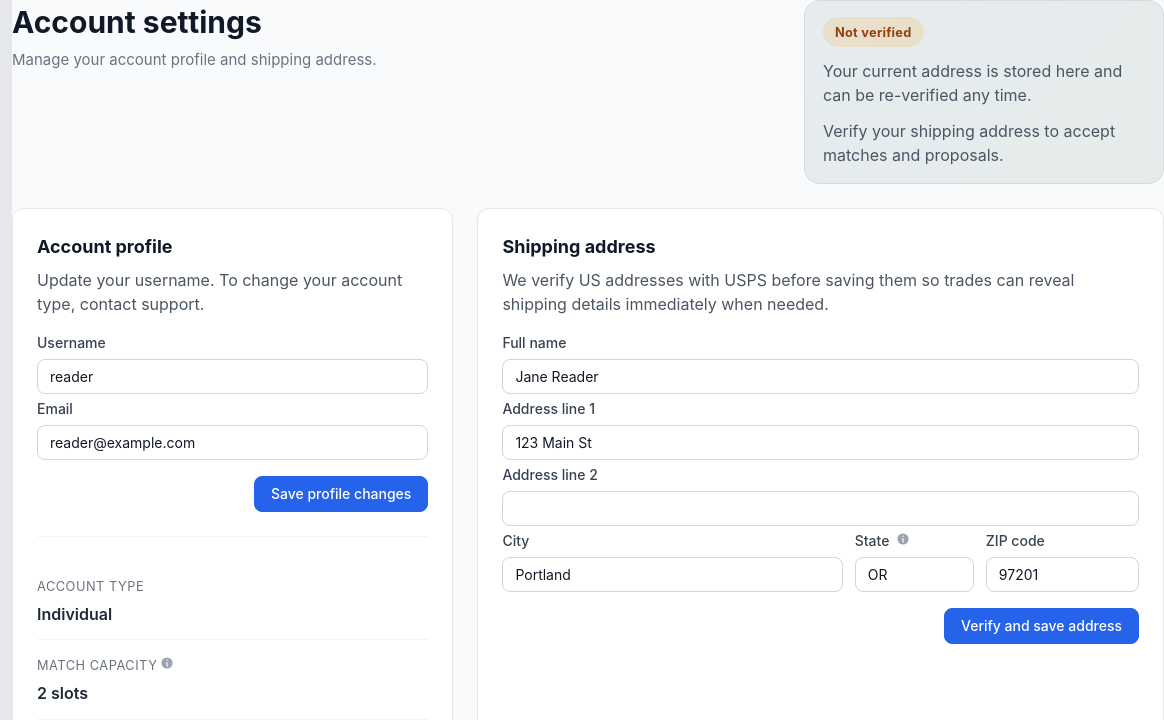
Test: AccountSettings page › shows USPS error in form area after failed address verification
Expected: the field showing "Jane Reader" is shown, [502,359,1139,394]
Click the button "Verify and save address".
click(1042, 626)  # box [944,608,1139,644]
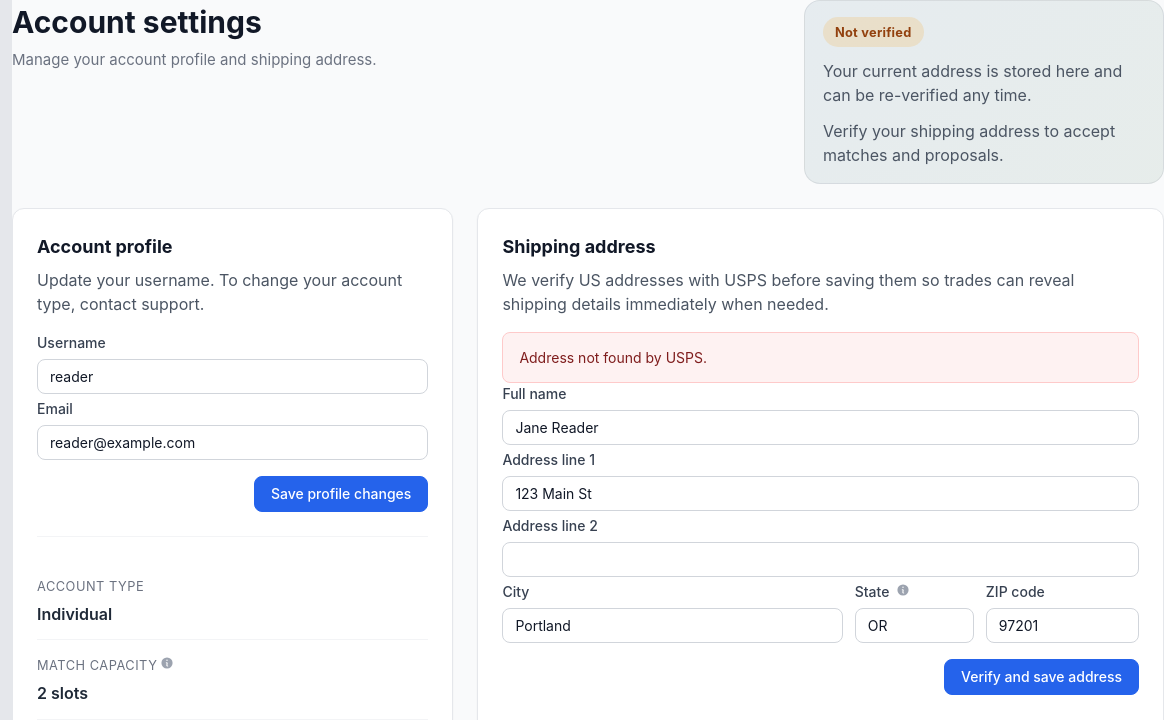
Now the text "Address not found by USPS." is shown, box [502,332,1139,383]
